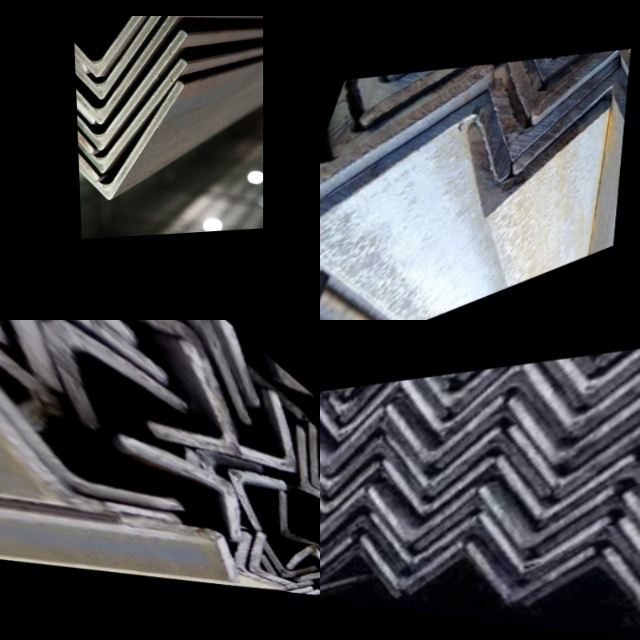Angle: (0, 320, 320, 640), (0, 371, 176, 511), (320, 98, 513, 224), (0, 392, 177, 526), (38, 320, 197, 465), (0, 320, 169, 431), (320, 74, 479, 179), (453, 105, 604, 211), (127, 321, 236, 465), (321, 64, 492, 147), (0, 320, 153, 408), (80, 320, 240, 404), (74, 37, 186, 144), (73, 16, 185, 118), (511, 347, 640, 432), (498, 388, 640, 465), (76, 89, 180, 193), (108, 320, 253, 393), (76, 68, 184, 164), (484, 71, 609, 152), (356, 395, 494, 466), (519, 73, 628, 160), (371, 59, 540, 114), (135, 447, 237, 534), (73, 16, 188, 93), (466, 485, 608, 547), (452, 370, 580, 438), (467, 514, 606, 574), (395, 366, 513, 436), (455, 545, 592, 604), (435, 434, 561, 496), (457, 356, 589, 414), (522, 531, 640, 594), (381, 428, 492, 490), (544, 461, 640, 531), (523, 558, 640, 615), (0, 320, 59, 432), (377, 456, 489, 515), (132, 515, 235, 579), (523, 344, 640, 400), (573, 351, 640, 444), (73, 16, 186, 71), (362, 485, 474, 539), (559, 428, 640, 501), (331, 414, 426, 476), (503, 51, 612, 105), (542, 498, 640, 558), (345, 374, 452, 425), (364, 515, 469, 565), (355, 540, 459, 590), (544, 49, 631, 105), (341, 63, 498, 94), (320, 516, 411, 565), (588, 330, 640, 412), (320, 383, 390, 443), (320, 550, 405, 595), (233, 463, 283, 534), (320, 406, 377, 467), (586, 552, 640, 615), (231, 531, 282, 586), (599, 521, 640, 586), (0, 320, 18, 465), (320, 437, 369, 490), (606, 485, 640, 558), (517, 49, 626, 71), (0, 320, 88, 347), (320, 486, 362, 535), (76, 85, 95, 177), (320, 533, 351, 581), (284, 499, 316, 543), (622, 451, 640, 527), (75, 60, 90, 151), (74, 35, 90, 119), (301, 436, 320, 504), (611, 86, 627, 149), (289, 544, 320, 575)
